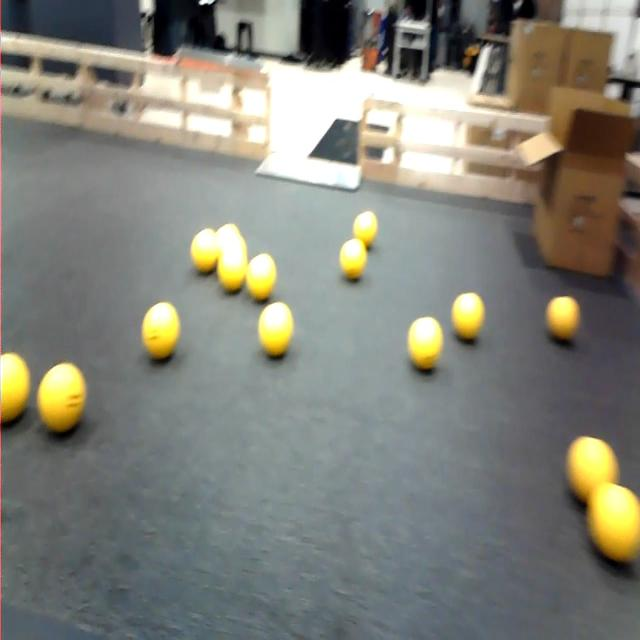fuel: (587, 483, 639, 563), (566, 437, 618, 503), (37, 363, 86, 432), (142, 303, 180, 359), (0, 353, 30, 423), (258, 303, 293, 357), (408, 318, 442, 370), (546, 297, 580, 342), (452, 293, 484, 340), (246, 254, 276, 301), (190, 228, 220, 274), (218, 245, 246, 292), (340, 239, 366, 279), (353, 211, 377, 247), (217, 224, 241, 251), (220, 236, 247, 258)
